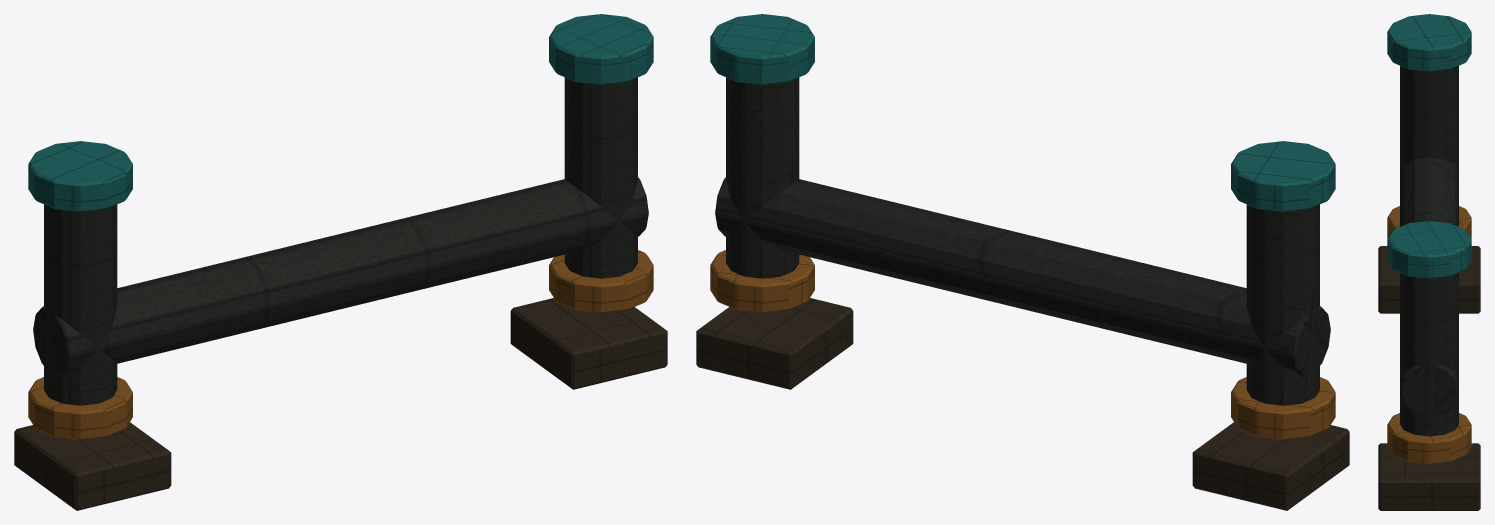
File: pipe-run.e2.glb
3 views of the same model, side by side, from view 1: azimuth 30°, elevation 25°; view 2: azimuth 150°, elevation 25°; view 3: azimuth 270°, elevation 25° (orthographic). The views are drawn at different scales.
Visible parts, largest first — view 1: PipeRunE2; view 2: PipeRunE2; view 3: PipeRunE2.
Boxes of the visible parts, x1,y1,x2,y2 form: PipeRunE2: [14, 14, 667, 510]; PipeRunE2: [696, 14, 1349, 510]; PipeRunE2: [1378, 14, 1480, 510].
Bounding box in the file's own units: 2.02 × 1 × 0.36.
1 material, 1 textured.
